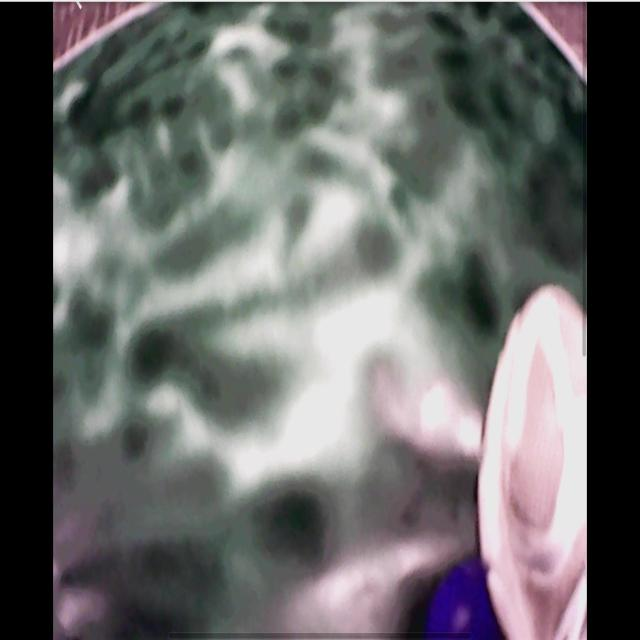ball: (426, 567, 504, 640)
